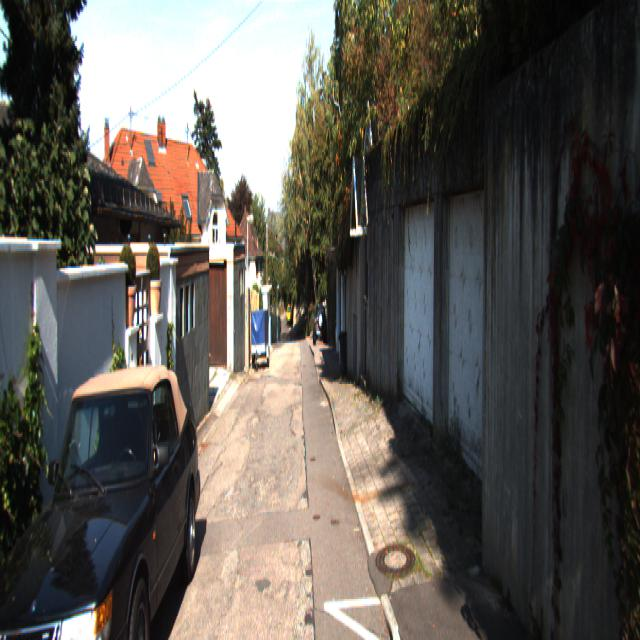Car: (0, 346, 203, 638), (250, 308, 269, 370), (313, 304, 328, 346)
